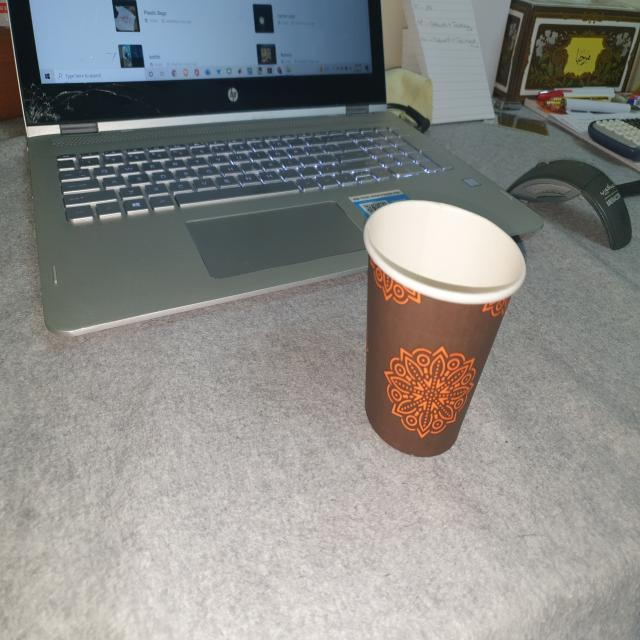cups: (342, 193, 536, 467)
